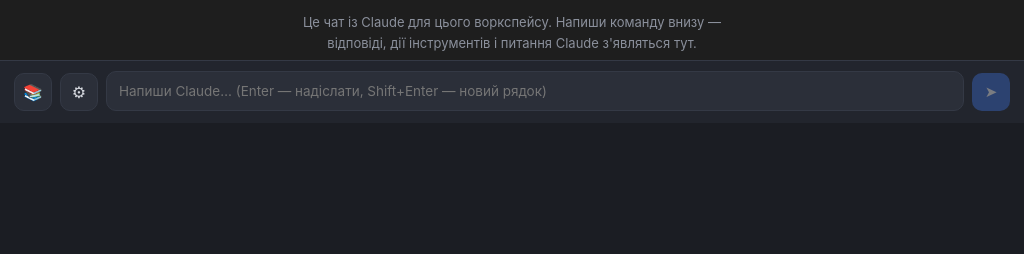
ChatView › slash commands › opens a filtered menu while typing a /command
The width and height of the screenshot is (1024, 254).
Type "/c" into the text box with placeholder "Напиши Claude".
click(535, 91); type("/c")  # box [106, 71, 964, 111]
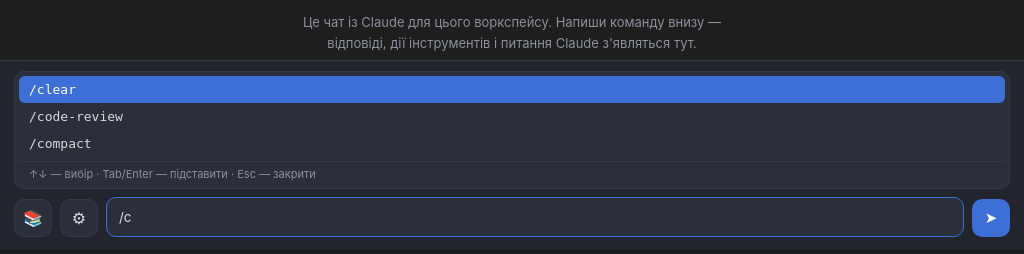
Expected: the option "/compact" is shown, [19, 130, 1005, 157]
Expected: the option "/clear" is shown, [19, 76, 1005, 103]
Type "o" into the text box with placeholder "Напиши Claude".
click(535, 217); type("o")  # box [106, 197, 964, 237]
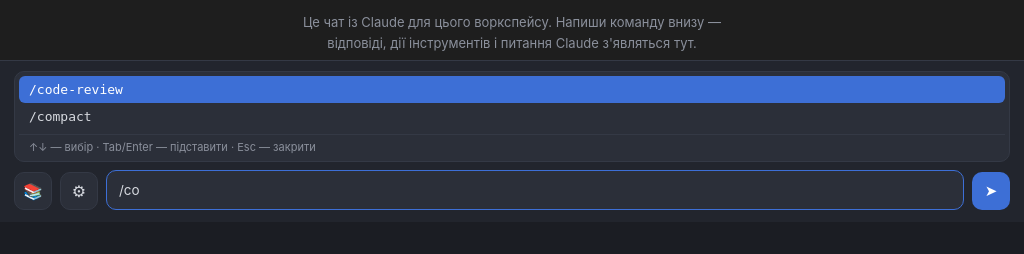
Expected: the option "/code-review" is shown, [19, 76, 1005, 103]
Expected: the option "/clear" is gone
